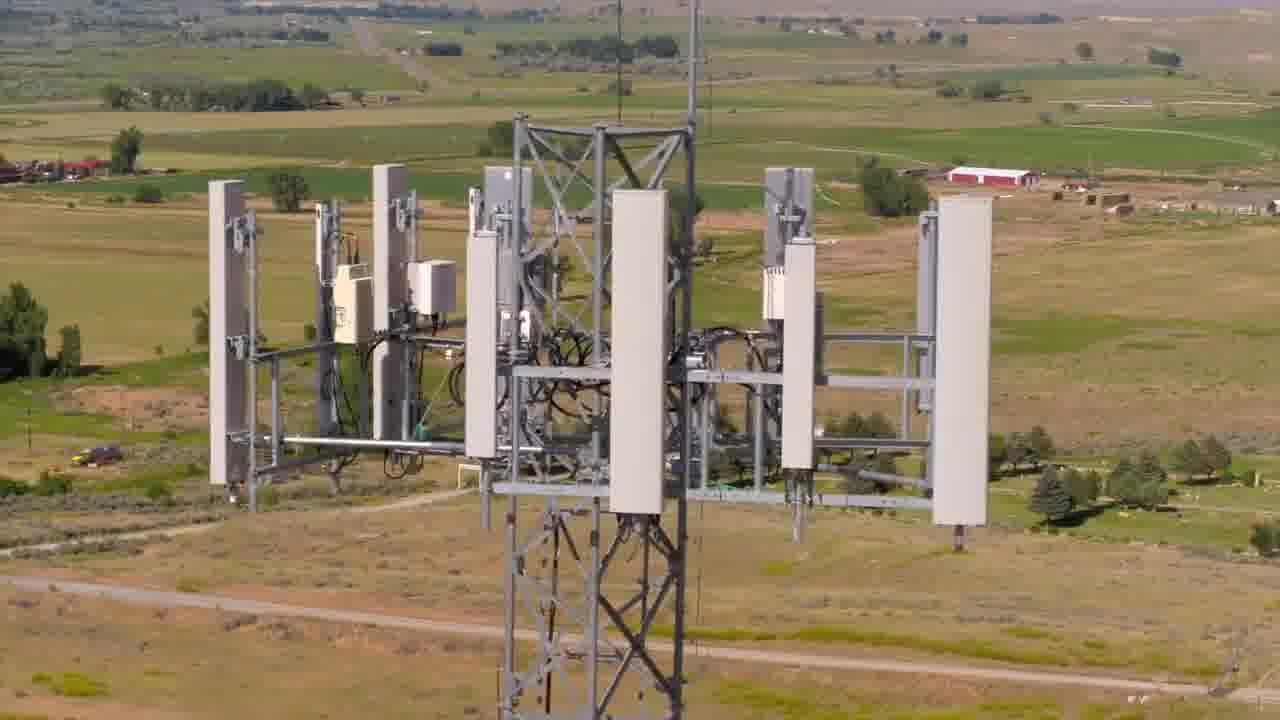antenna: (602, 186, 677, 527), (929, 190, 996, 536), (199, 173, 256, 500), (777, 227, 824, 489), (466, 231, 511, 477), (364, 154, 415, 343), (909, 201, 948, 428)
